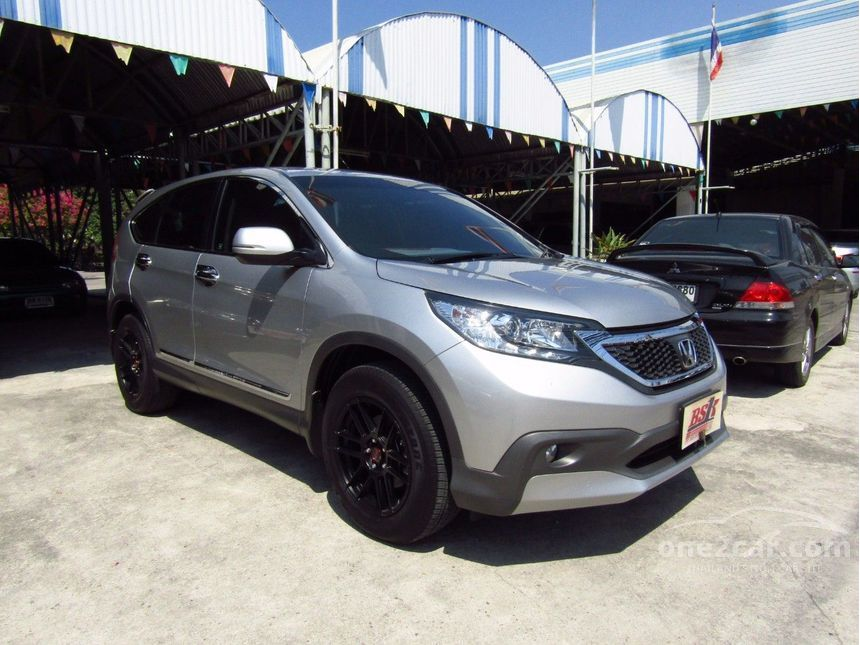pickup: (103, 160, 734, 547)
